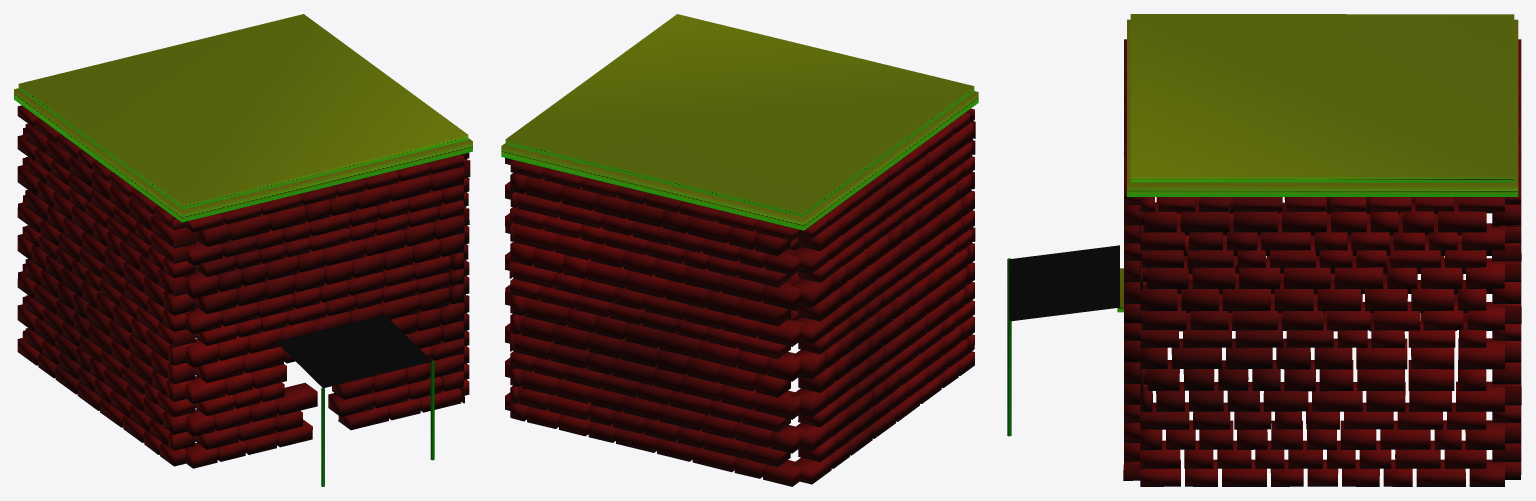
The model's file is quellan_house.glb.
3 renders of one model, left to right at view 1: azimuth 30°, elevation 25°; view 2: azimuth 150°, elevation 25°; view 3: azimuth 270°, elevation 25°, orthographic. The views are drawn at different scales.
Visible parts, largest first — view 1: quellan_house; view 2: quellan_house; view 3: quellan_house.
Part boxes in pixels (<box>): quellan_house: <box>14,14,472,486</box>; quellan_house: <box>501,14,978,486</box>; quellan_house: <box>1007,14,1521,486</box>.
Size of what is drawn, in the model's own units: 6.49 by 5.56 by 8.38.
